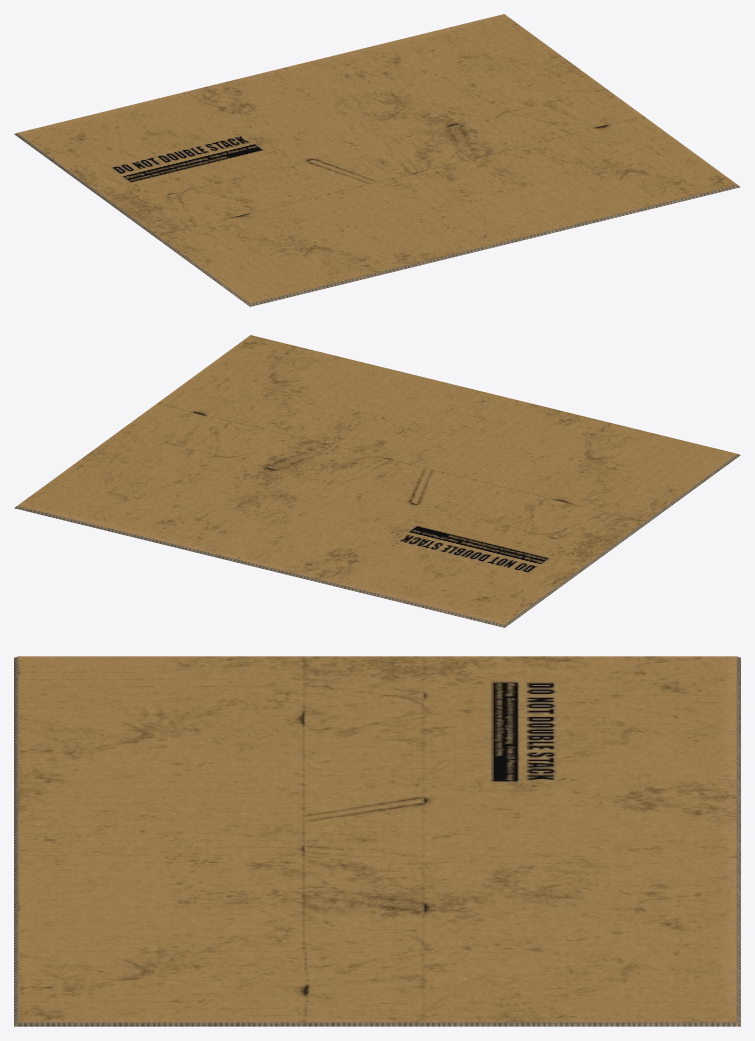
The model's file is dimian.fbx.
3 renders of one model, top to bottom at view 1: azimuth 30°, elevation 25°; view 2: azimuth 150°, elevation 25°; view 3: azimuth 270°, elevation 25°, orthographic. The views are drawn at different scales.
Parts seen in each view (by area): view 1: dimian; view 2: dimian; view 3: dimian.
Boxes of the visible parts, x1,y1,x2,y2 form: dimian: (14, 14, 740, 306); dimian: (14, 335, 740, 627); dimian: (14, 656, 740, 1026).
Bounding box in the file's own units: 12 × 0.0429 × 10.
